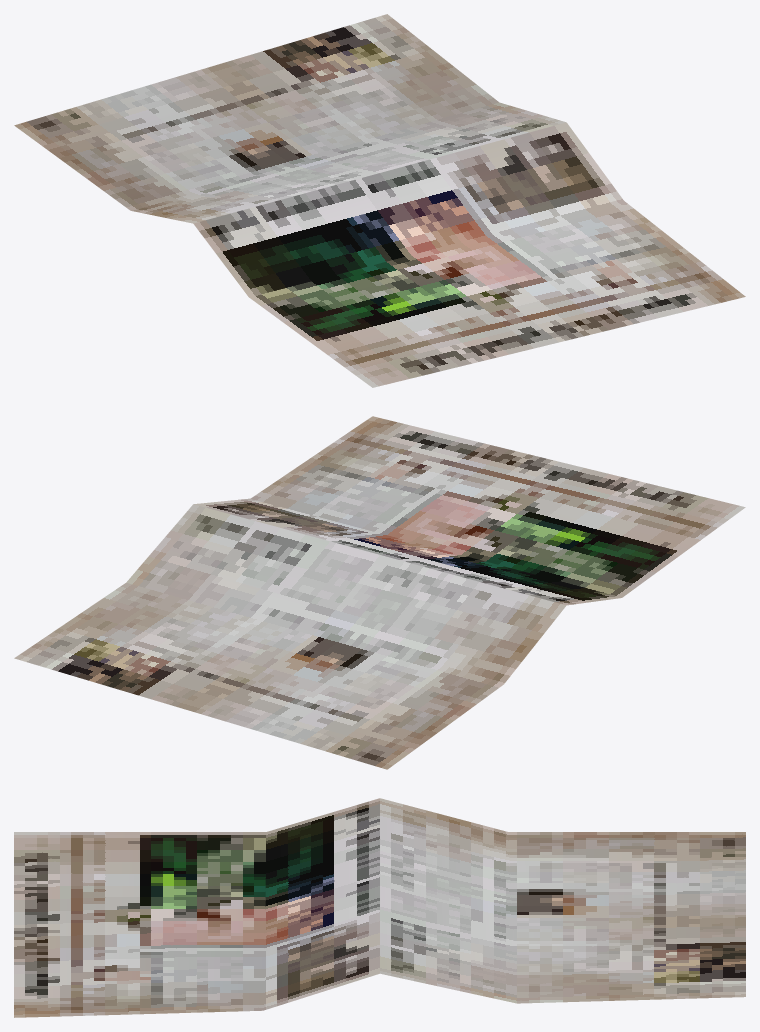
File: newspaper_litter.fbx
3 renders of one model, top to bottom at view 1: azimuth 30°, elevation 25°; view 2: azimuth 150°, elevation 25°; view 3: azimuth 270°, elevation 25°, orthographic. The views are drawn at different scales.
Parts seen in each view (by area): view 1: mesh_0; view 2: mesh_0; view 3: mesh_0.
Boxes of the visible parts, box(x1,y1,x2,y2) form: mesh_0: box(14, 14, 745, 387); mesh_0: box(14, 416, 745, 769); mesh_0: box(14, 798, 745, 1017).
Size of the model in its own units: 48.09 by 5.32 by 80.
Materials: 1 (1 with a texture image).
